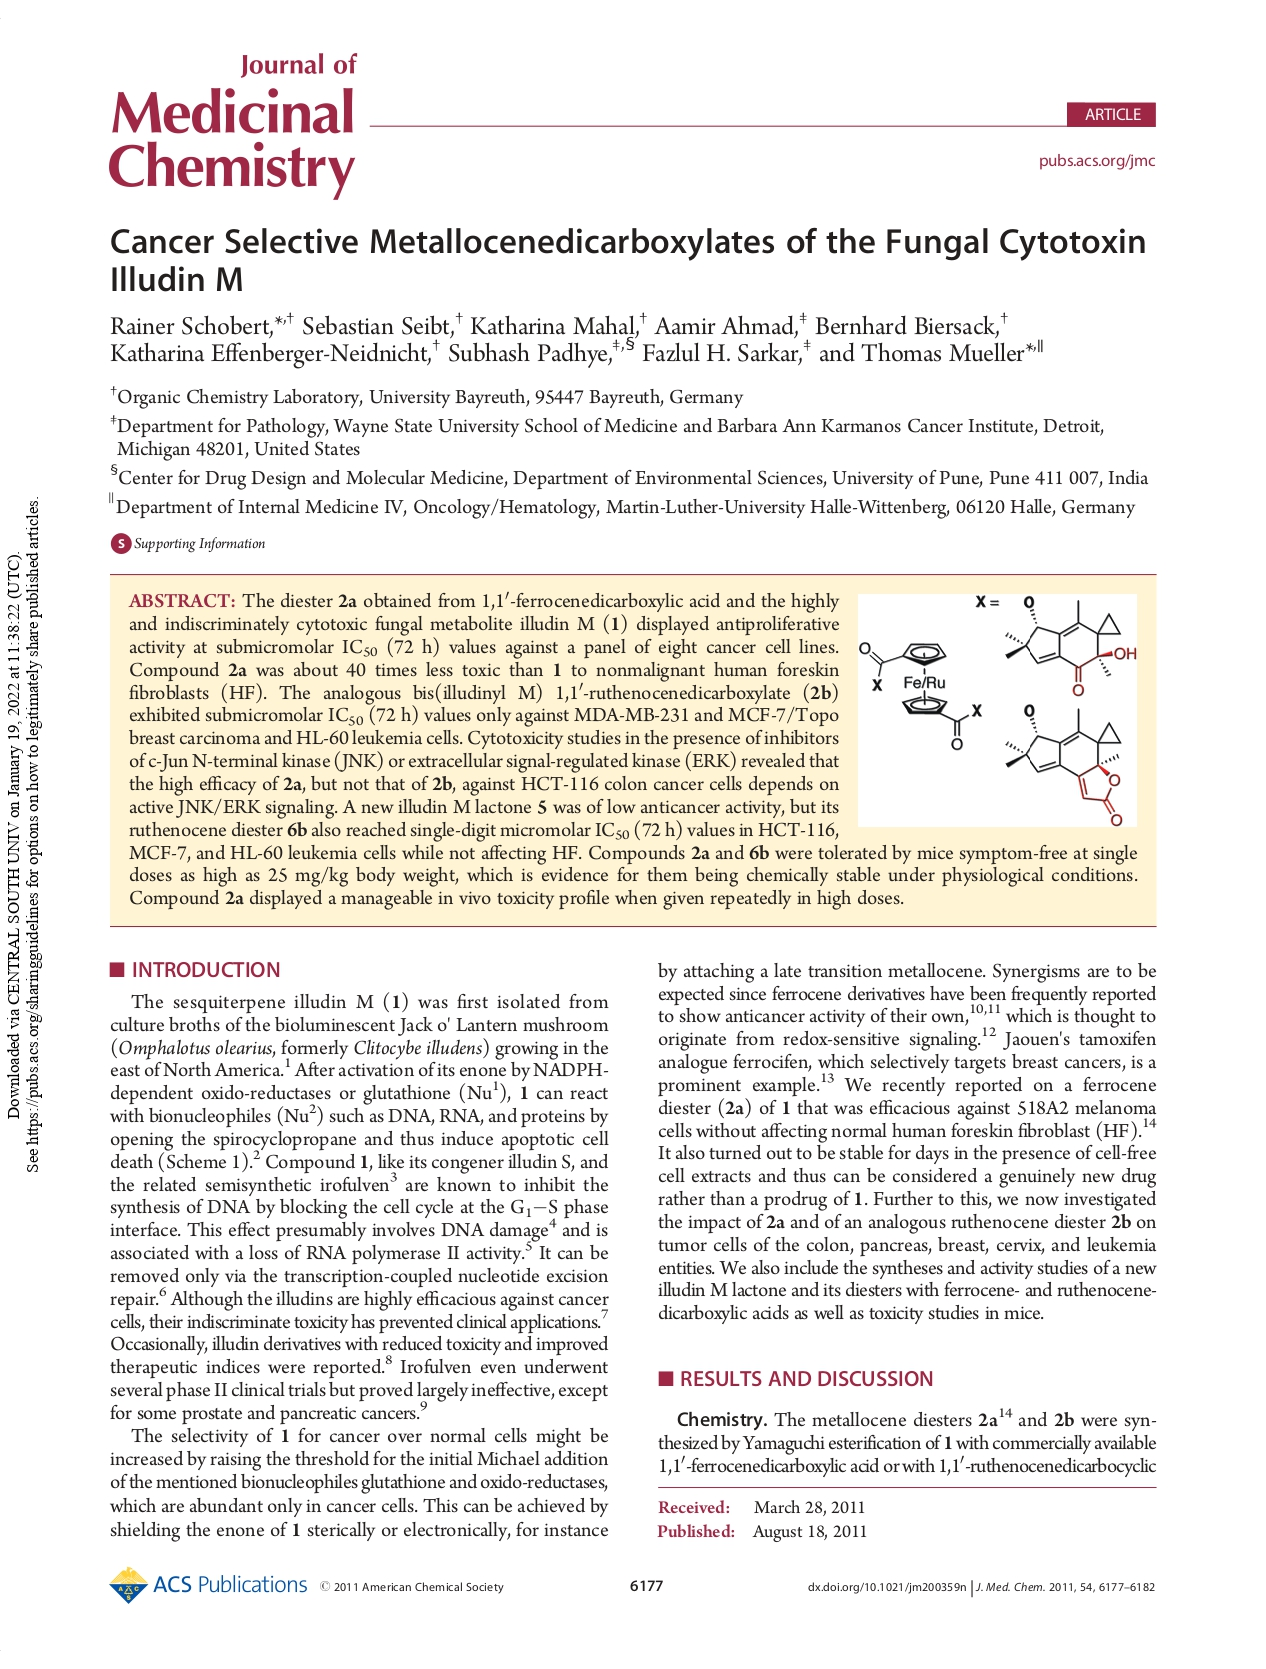exist_molecular: (1001, 702, 1126, 829), (854, 634, 985, 753), (1001, 594, 1138, 697)
